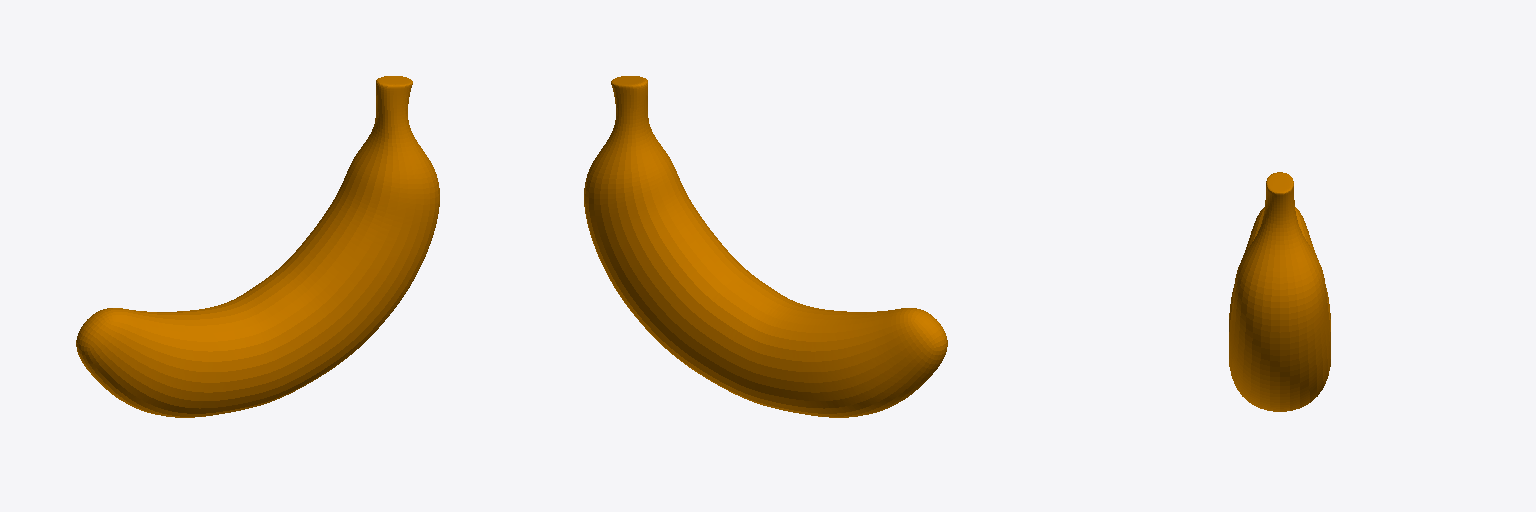
Rendered from Banana.obj.
3 views of the same model, side by side, from view 1: azimuth 30°, elevation 25°; view 2: azimuth 150°, elevation 25°; view 3: azimuth 270°, elevation 25° (orthographic).
Visible parts, largest first — view 1: Cube_Cube.001; view 2: Cube_Cube.001; view 3: Cube_Cube.001.
Part boxes in pixels (x1,y1,x2,y2): Cube_Cube.001: (76, 76, 439, 417); Cube_Cube.001: (584, 76, 947, 417); Cube_Cube.001: (1229, 172, 1330, 411).
Bounding box in the file's own units: 4.58 × 3.55 × 1.15.